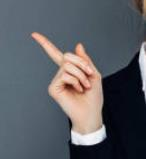up: (28, 30, 105, 117)
